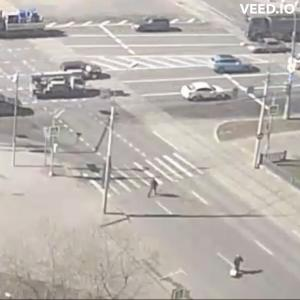car: (27, 73, 90, 100), (57, 57, 108, 81), (182, 82, 238, 103), (1, 10, 48, 34), (211, 54, 261, 75), (135, 20, 182, 35), (263, 40, 289, 56)
